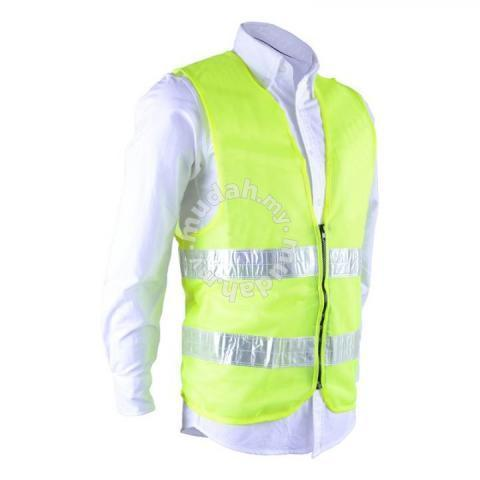vest: (163, 54, 376, 425)
